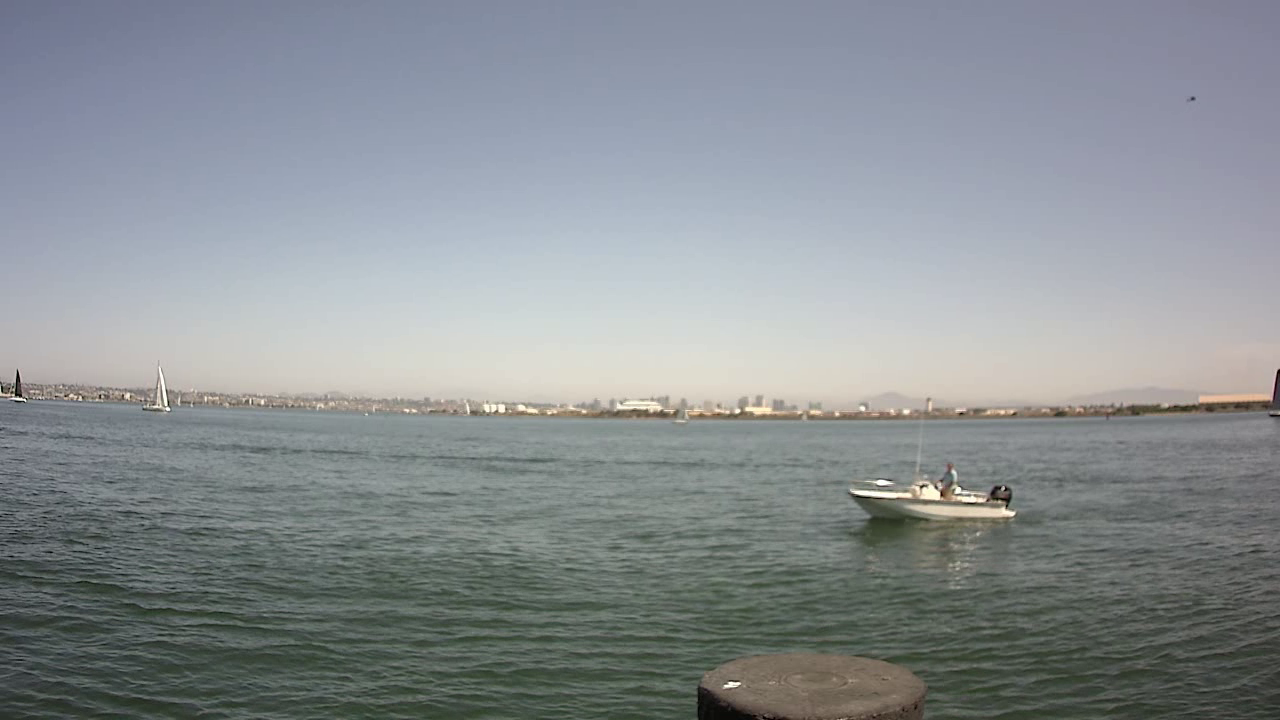target: (843, 450, 1025, 526)
